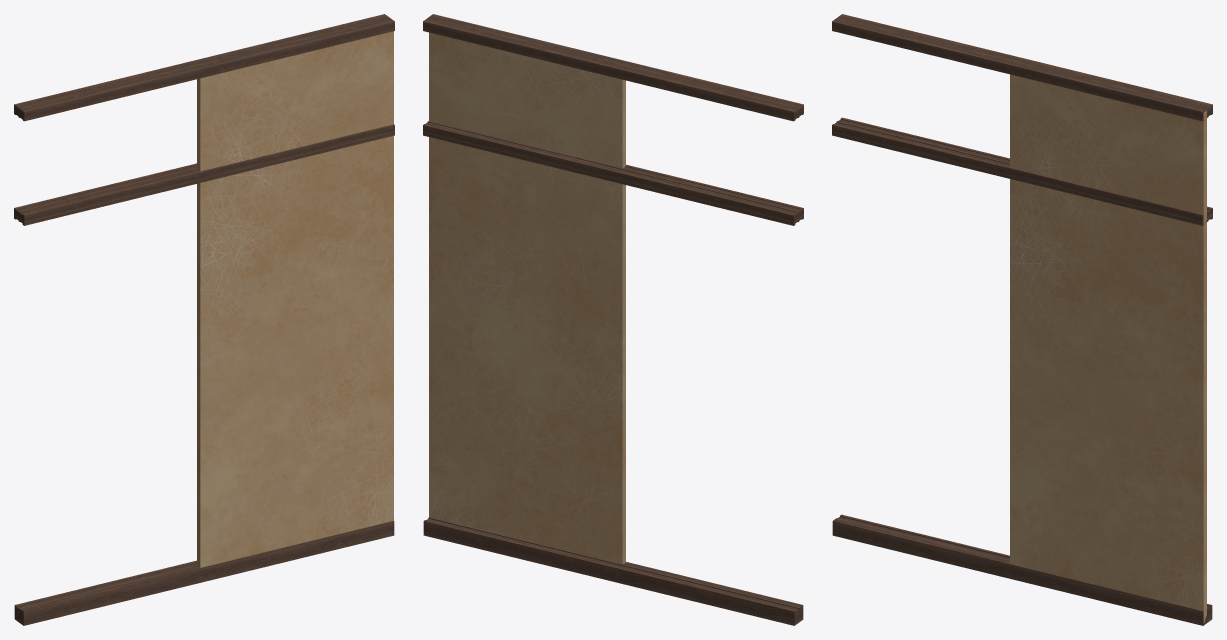
File: inwall_to_1t01.fbx
3 renders of one model, left to right at view 1: azimuth 30°, elevation 25°; view 2: azimuth 150°, elevation 25°; view 3: azimuth 330°, elevation 25°, orthographic.
Parts seen in each view (by area): view 1: inwall_to_1t01; view 2: inwall_to_1t01; view 3: inwall_to_1t01.
Boxes of the visible parts, x1=… form: inwall_to_1t01: x1=14, y1=14, x2=394, y2=625; inwall_to_1t01: x1=423, y1=14, x2=803, y2=625; inwall_to_1t01: x1=832, y1=14, x2=1212, y2=625.
Bounding box in the file's own units: 220 × 292 × 10.4.
